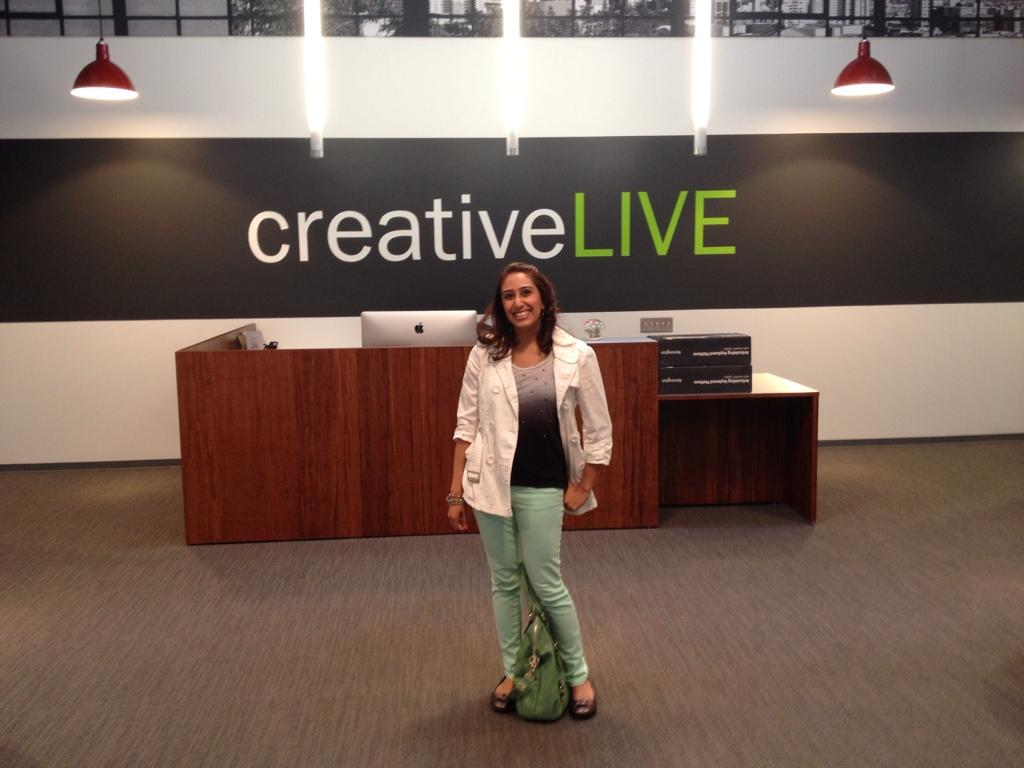face: (501, 272, 540, 327)
